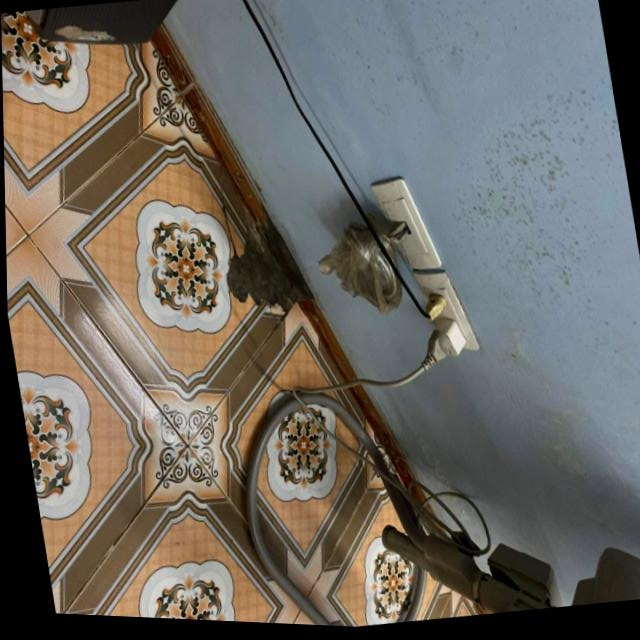outlet: (370, 172, 443, 276), (413, 265, 482, 360)
